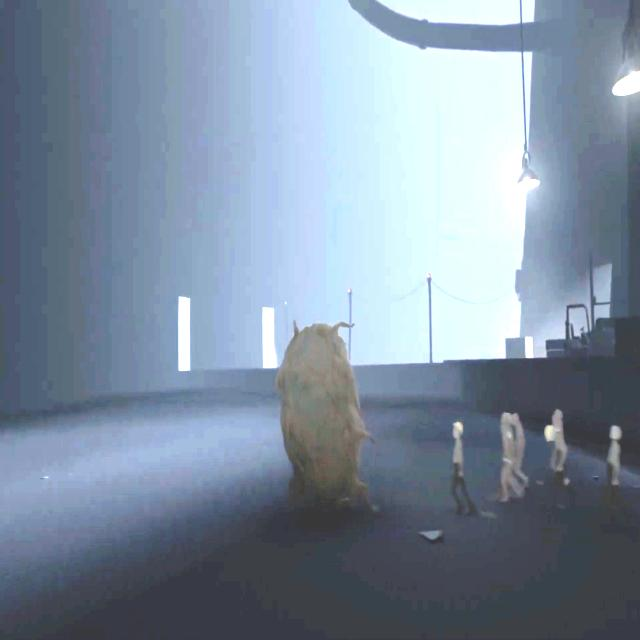blob: (277, 320, 374, 489)
zombie: (451, 420, 477, 517), (499, 413, 522, 505), (544, 426, 566, 507), (513, 415, 530, 493), (609, 425, 620, 513), (553, 410, 564, 440)
